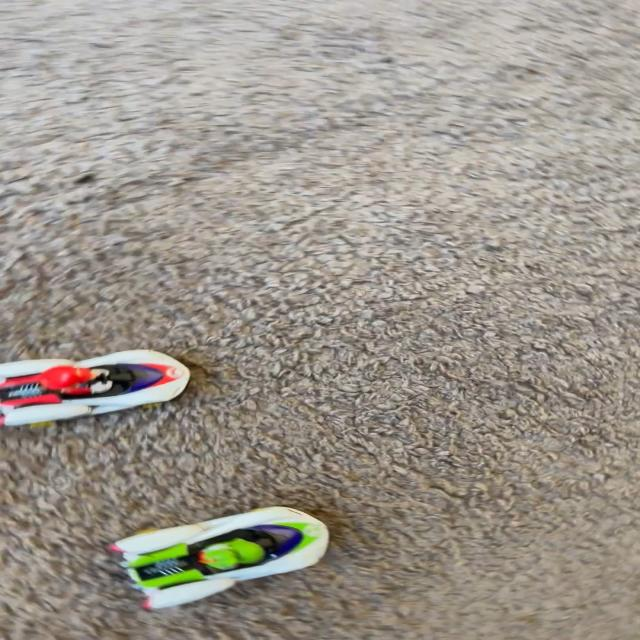mario: (0, 326, 208, 439)
yoshi: (90, 481, 346, 635)
